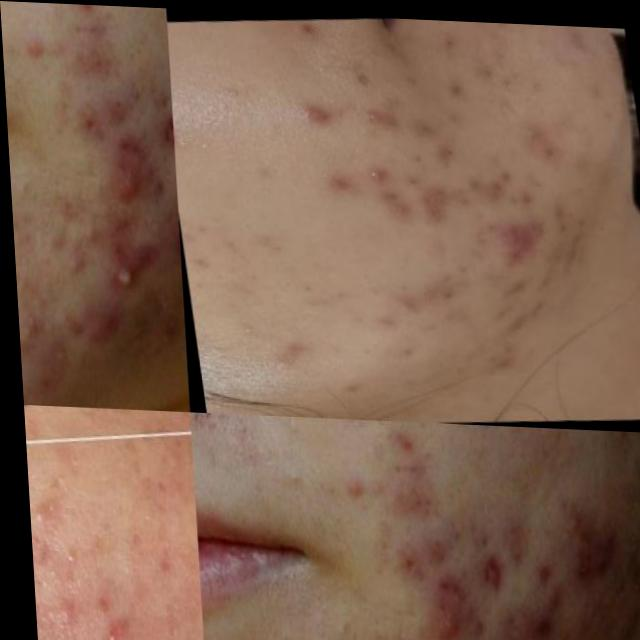8: (489, 199, 554, 273), (272, 78, 343, 138), (512, 106, 551, 151)
blackheads: (552, 505, 622, 592), (106, 127, 154, 218), (93, 241, 152, 315), (421, 563, 469, 640), (463, 540, 509, 597), (149, 103, 173, 160)
dark spot: (383, 268, 416, 302), (239, 262, 266, 290), (404, 138, 427, 163), (193, 219, 212, 242), (402, 170, 425, 188)
